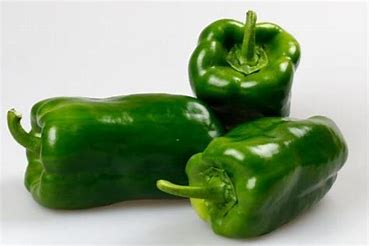fruit_pepper: (4, 92, 226, 211), (156, 114, 350, 241), (185, 9, 303, 125)
